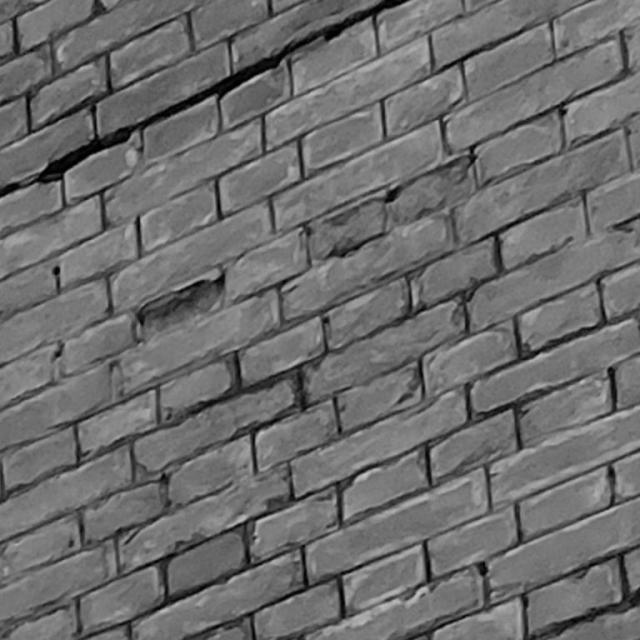crack: (1, 1, 410, 197)
